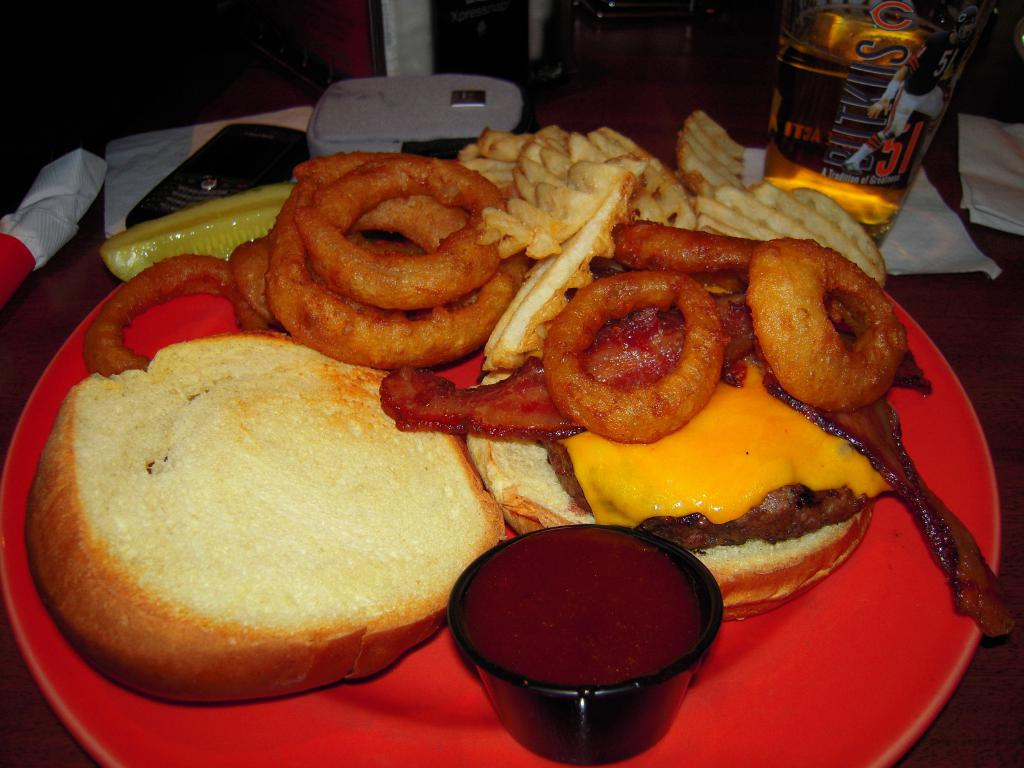Hamburger: (24, 215, 1016, 710)
